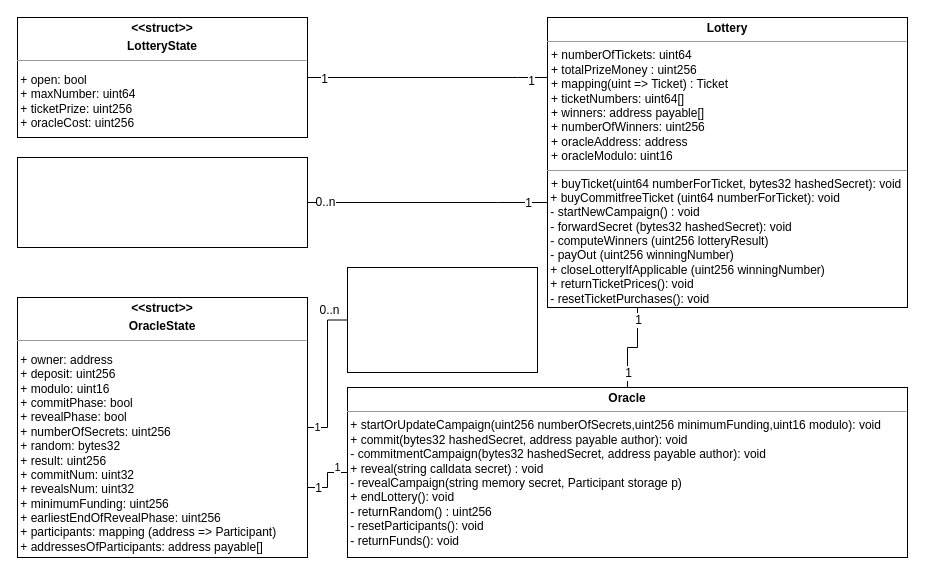
This 925x576 diagram has some shape labels left out. The shapes that lost their labels are listed below. From the top down, each one's centre as x and y in pixels, then its label:
point 162,202: <<struct>> Ticket + number: uint64 + sender: address payable
point 442,319: <<struct>> Participant + secret: string + commitment: bytes32 + revealed: bool
